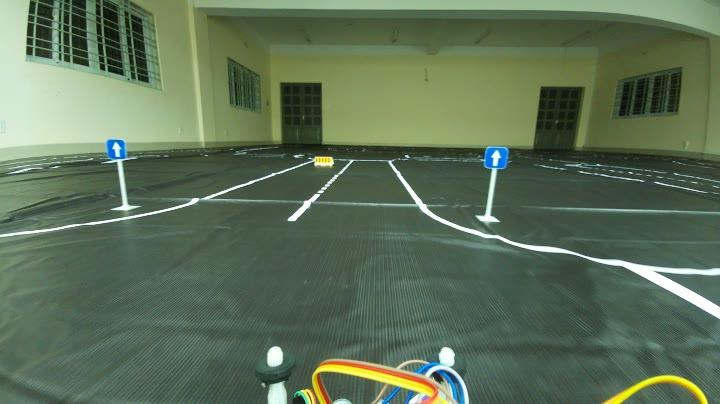onewayroad: (481, 143, 509, 171), (105, 136, 134, 162)
